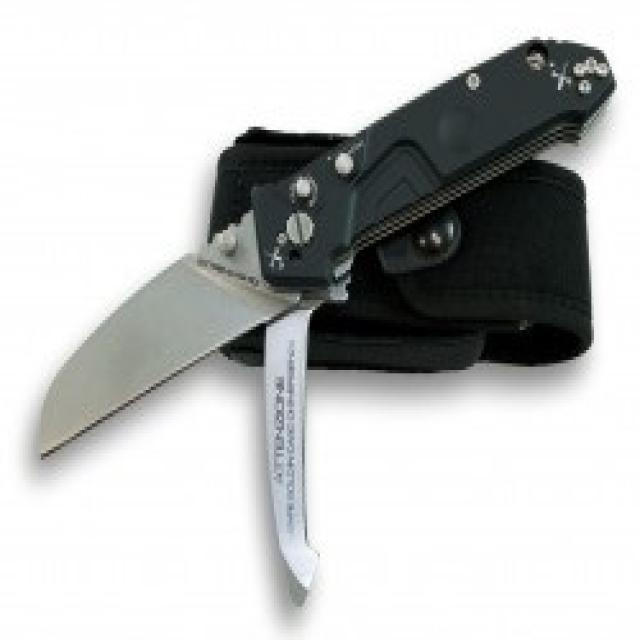knife: (35, 35, 621, 464)
